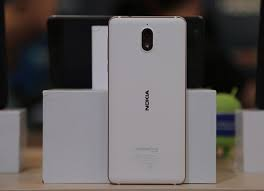nokia: (106, 14, 190, 186)
